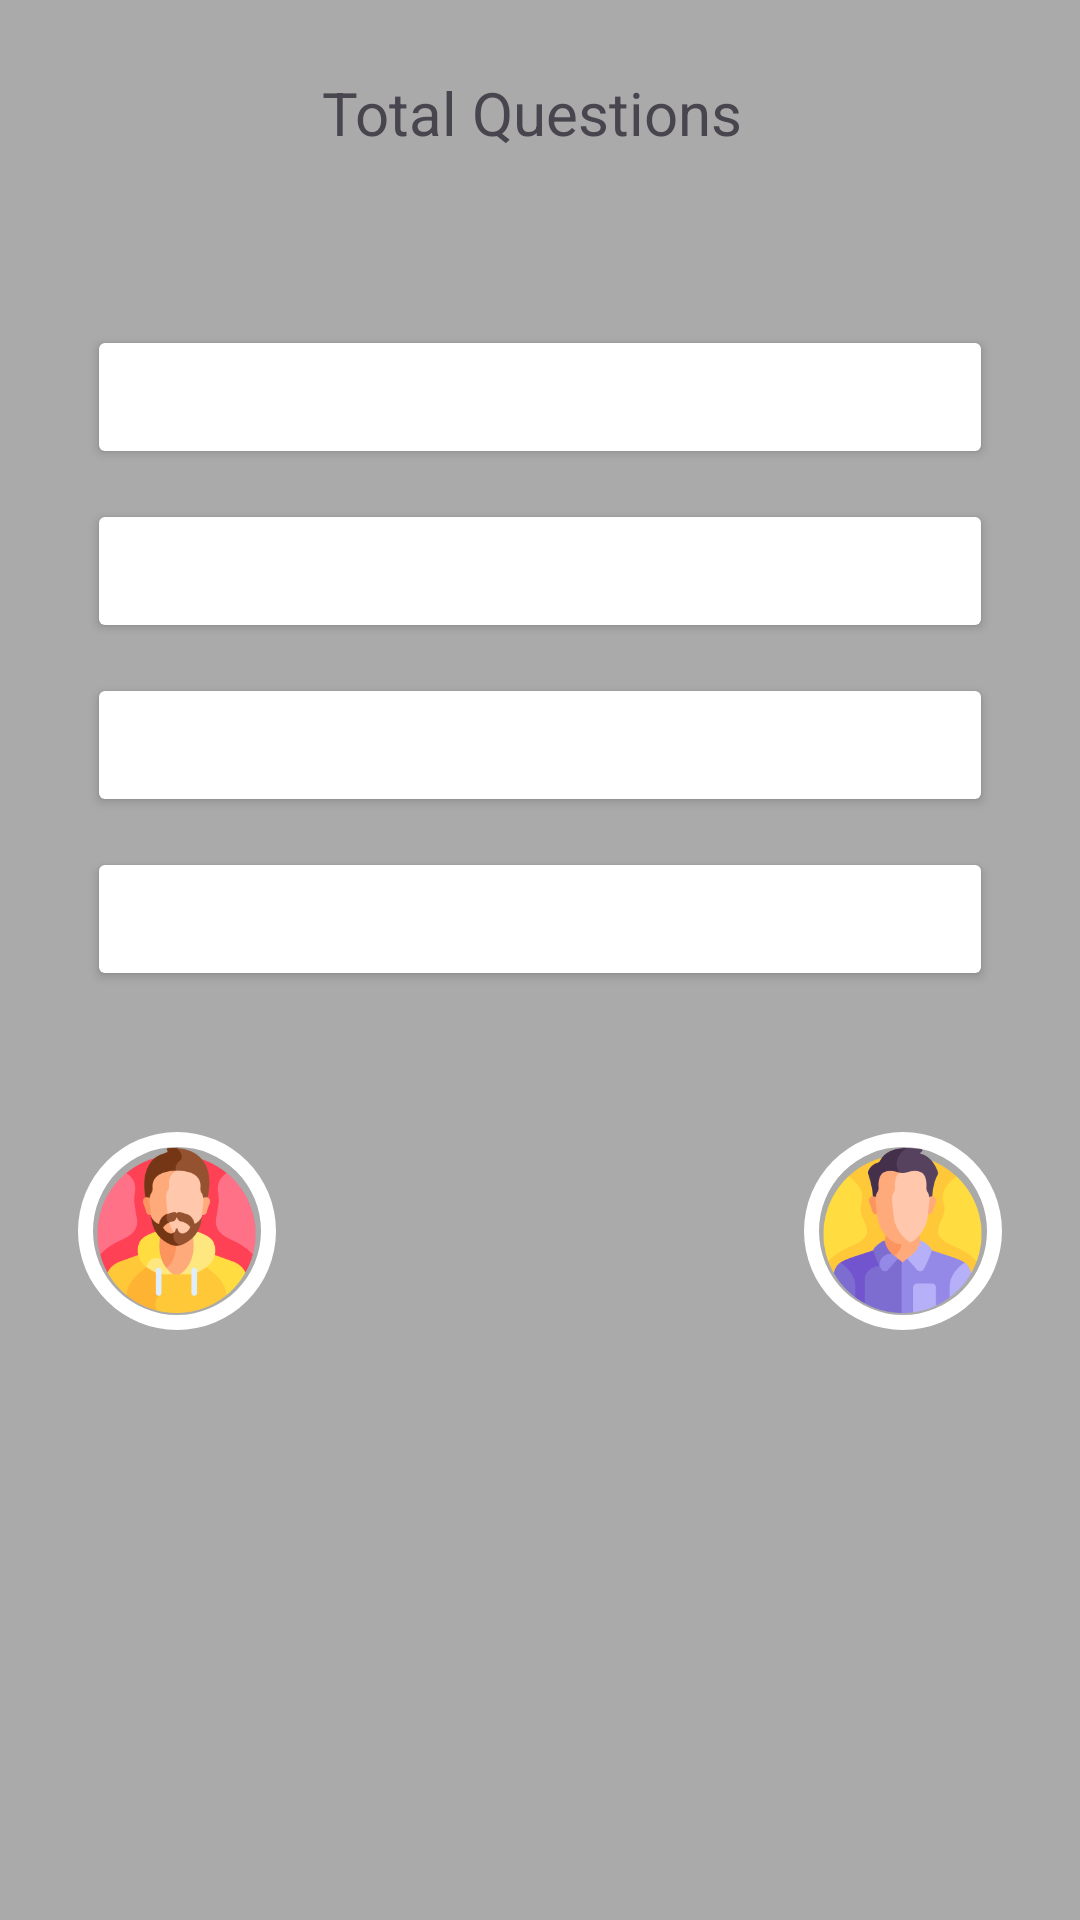

Point at icon controls on the screen. Image size 1080×1920, points as (x,y).
person: (176,1230), (902,1230)
